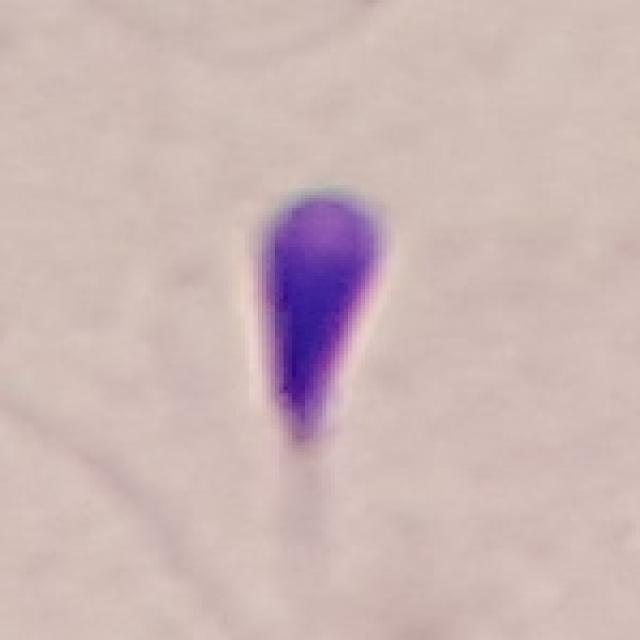abnormal sperm: (256, 193, 389, 526)
